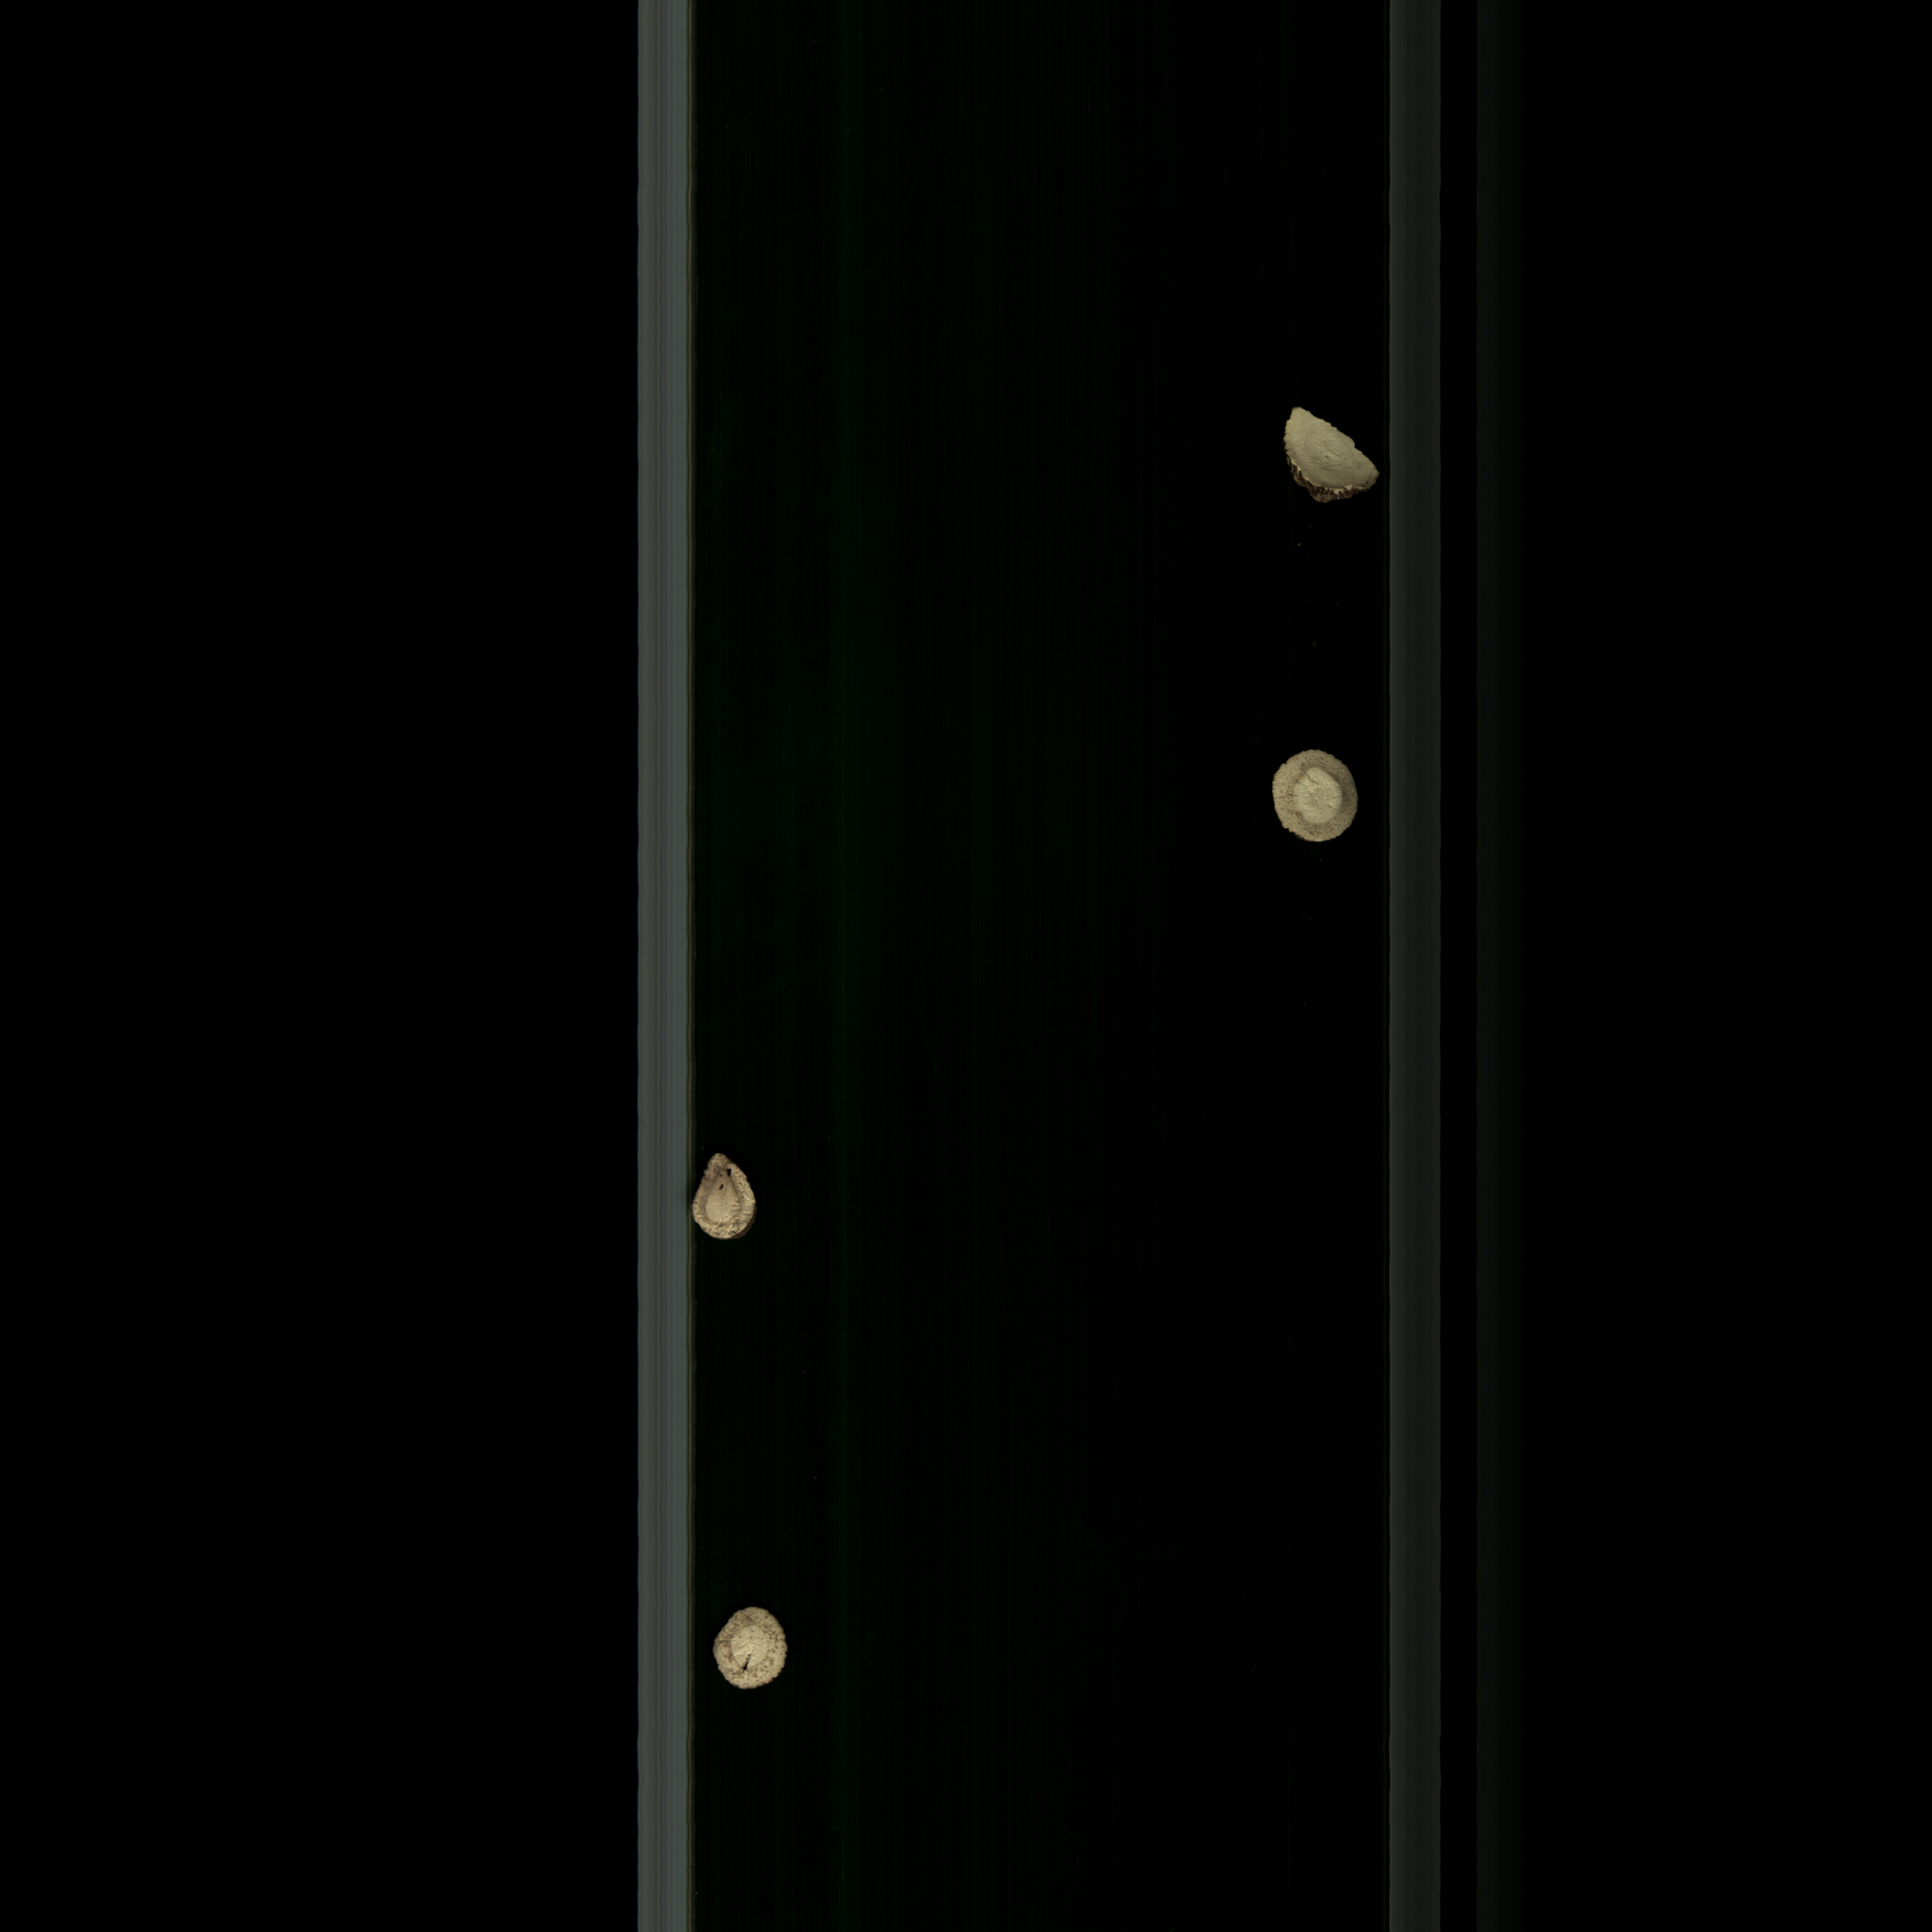debris: (1261, 395, 1391, 517)
moldy: (708, 1592, 801, 1698), (685, 1138, 763, 1253)
